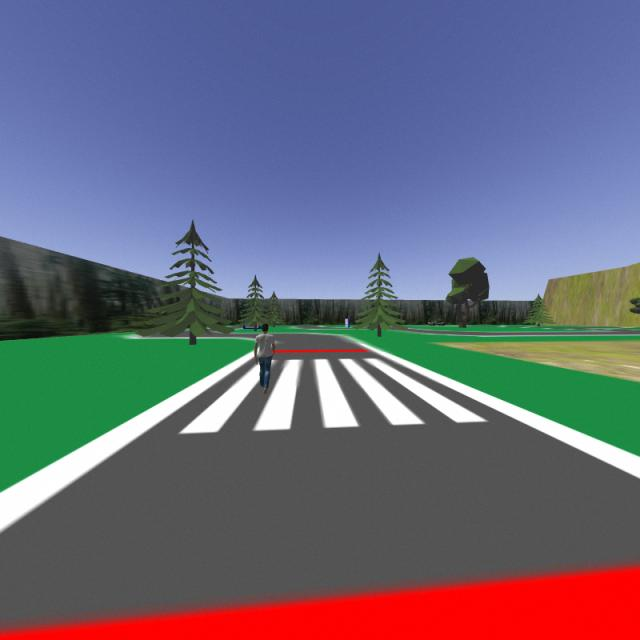pedestrian: (252, 324, 276, 396)
